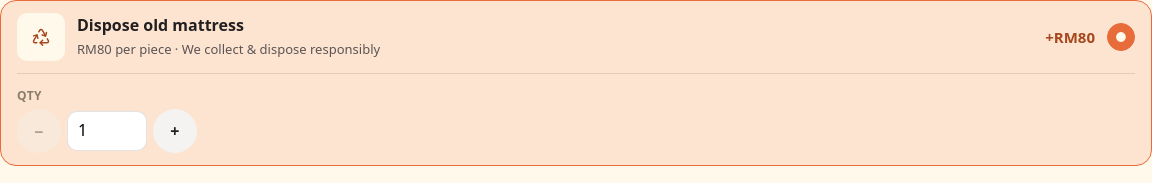
Test: AddonCard steppers › qty: + and − step within [1, 99]
The image size is (1152, 183).
Expected: the button named "Decrease quantity" is disabled, [17,109,61,153]
Click the button named "Increase quantity".
click(175, 131)  # box [153,109,197,153]
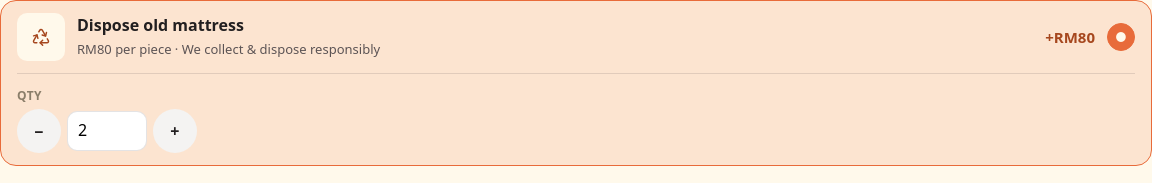
Click the button named "Increase quantity".
click(175, 131)  # box [153,109,197,153]
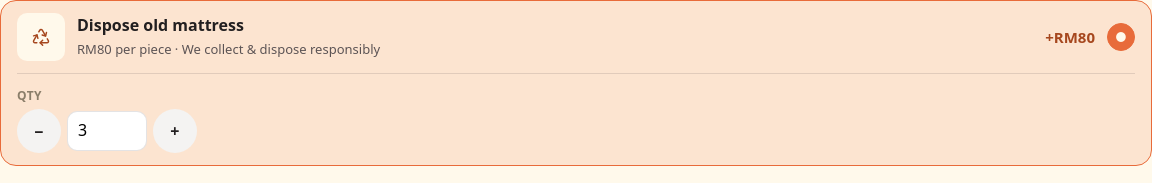
Expected: the number field labelled "Qty" holds "3", [67,111,147,151]
Click the button named "Decrease quantity".
click(39, 131)  # box [17,109,61,153]
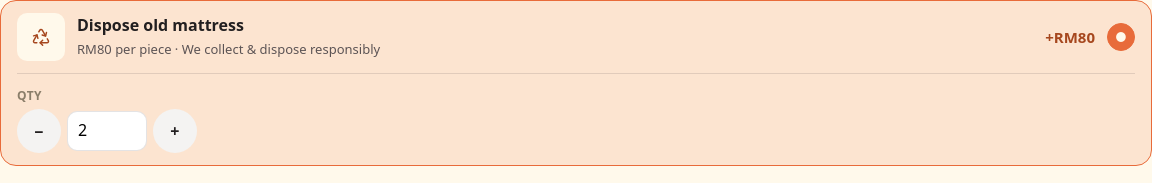
Expected: the number field labelled "Qty" holds "2", [67,111,147,151]
